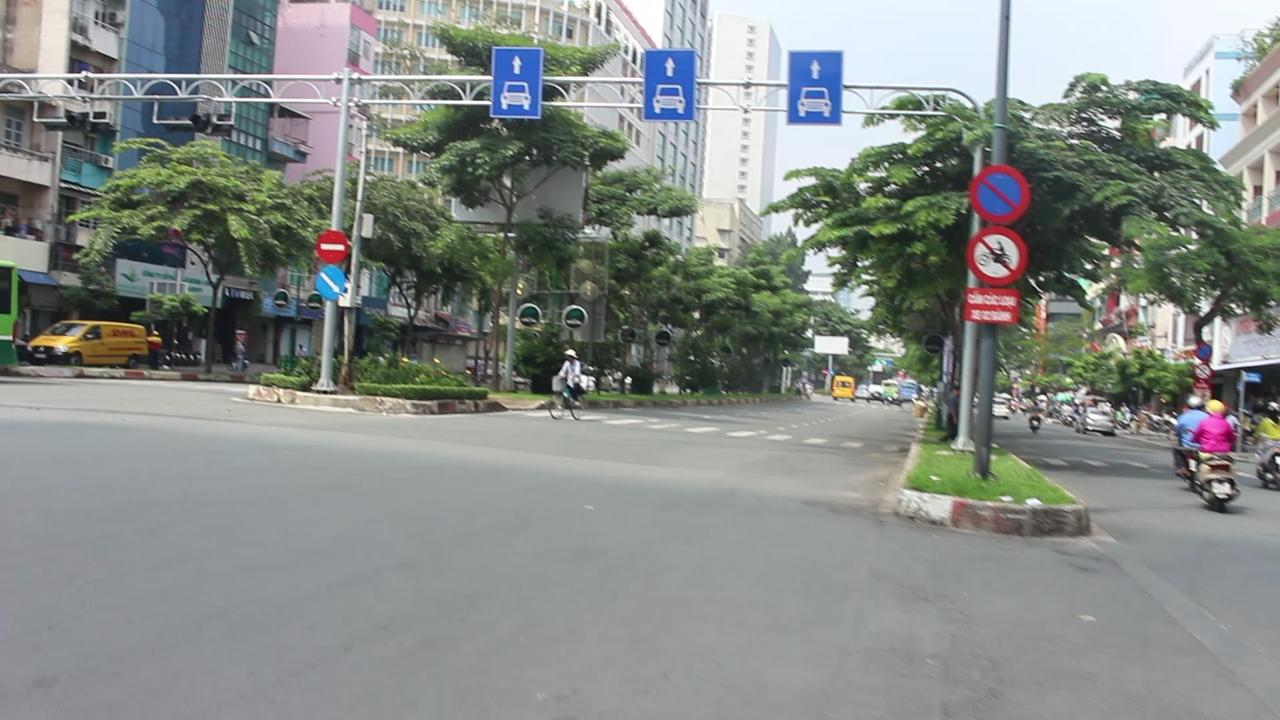DP.135: (968, 165, 1032, 220), (313, 226, 350, 264)
P.103b: (969, 226, 1022, 284)
P.124a: (786, 53, 842, 123), (494, 49, 540, 120), (644, 48, 687, 120)
P.130: (310, 269, 347, 301)
